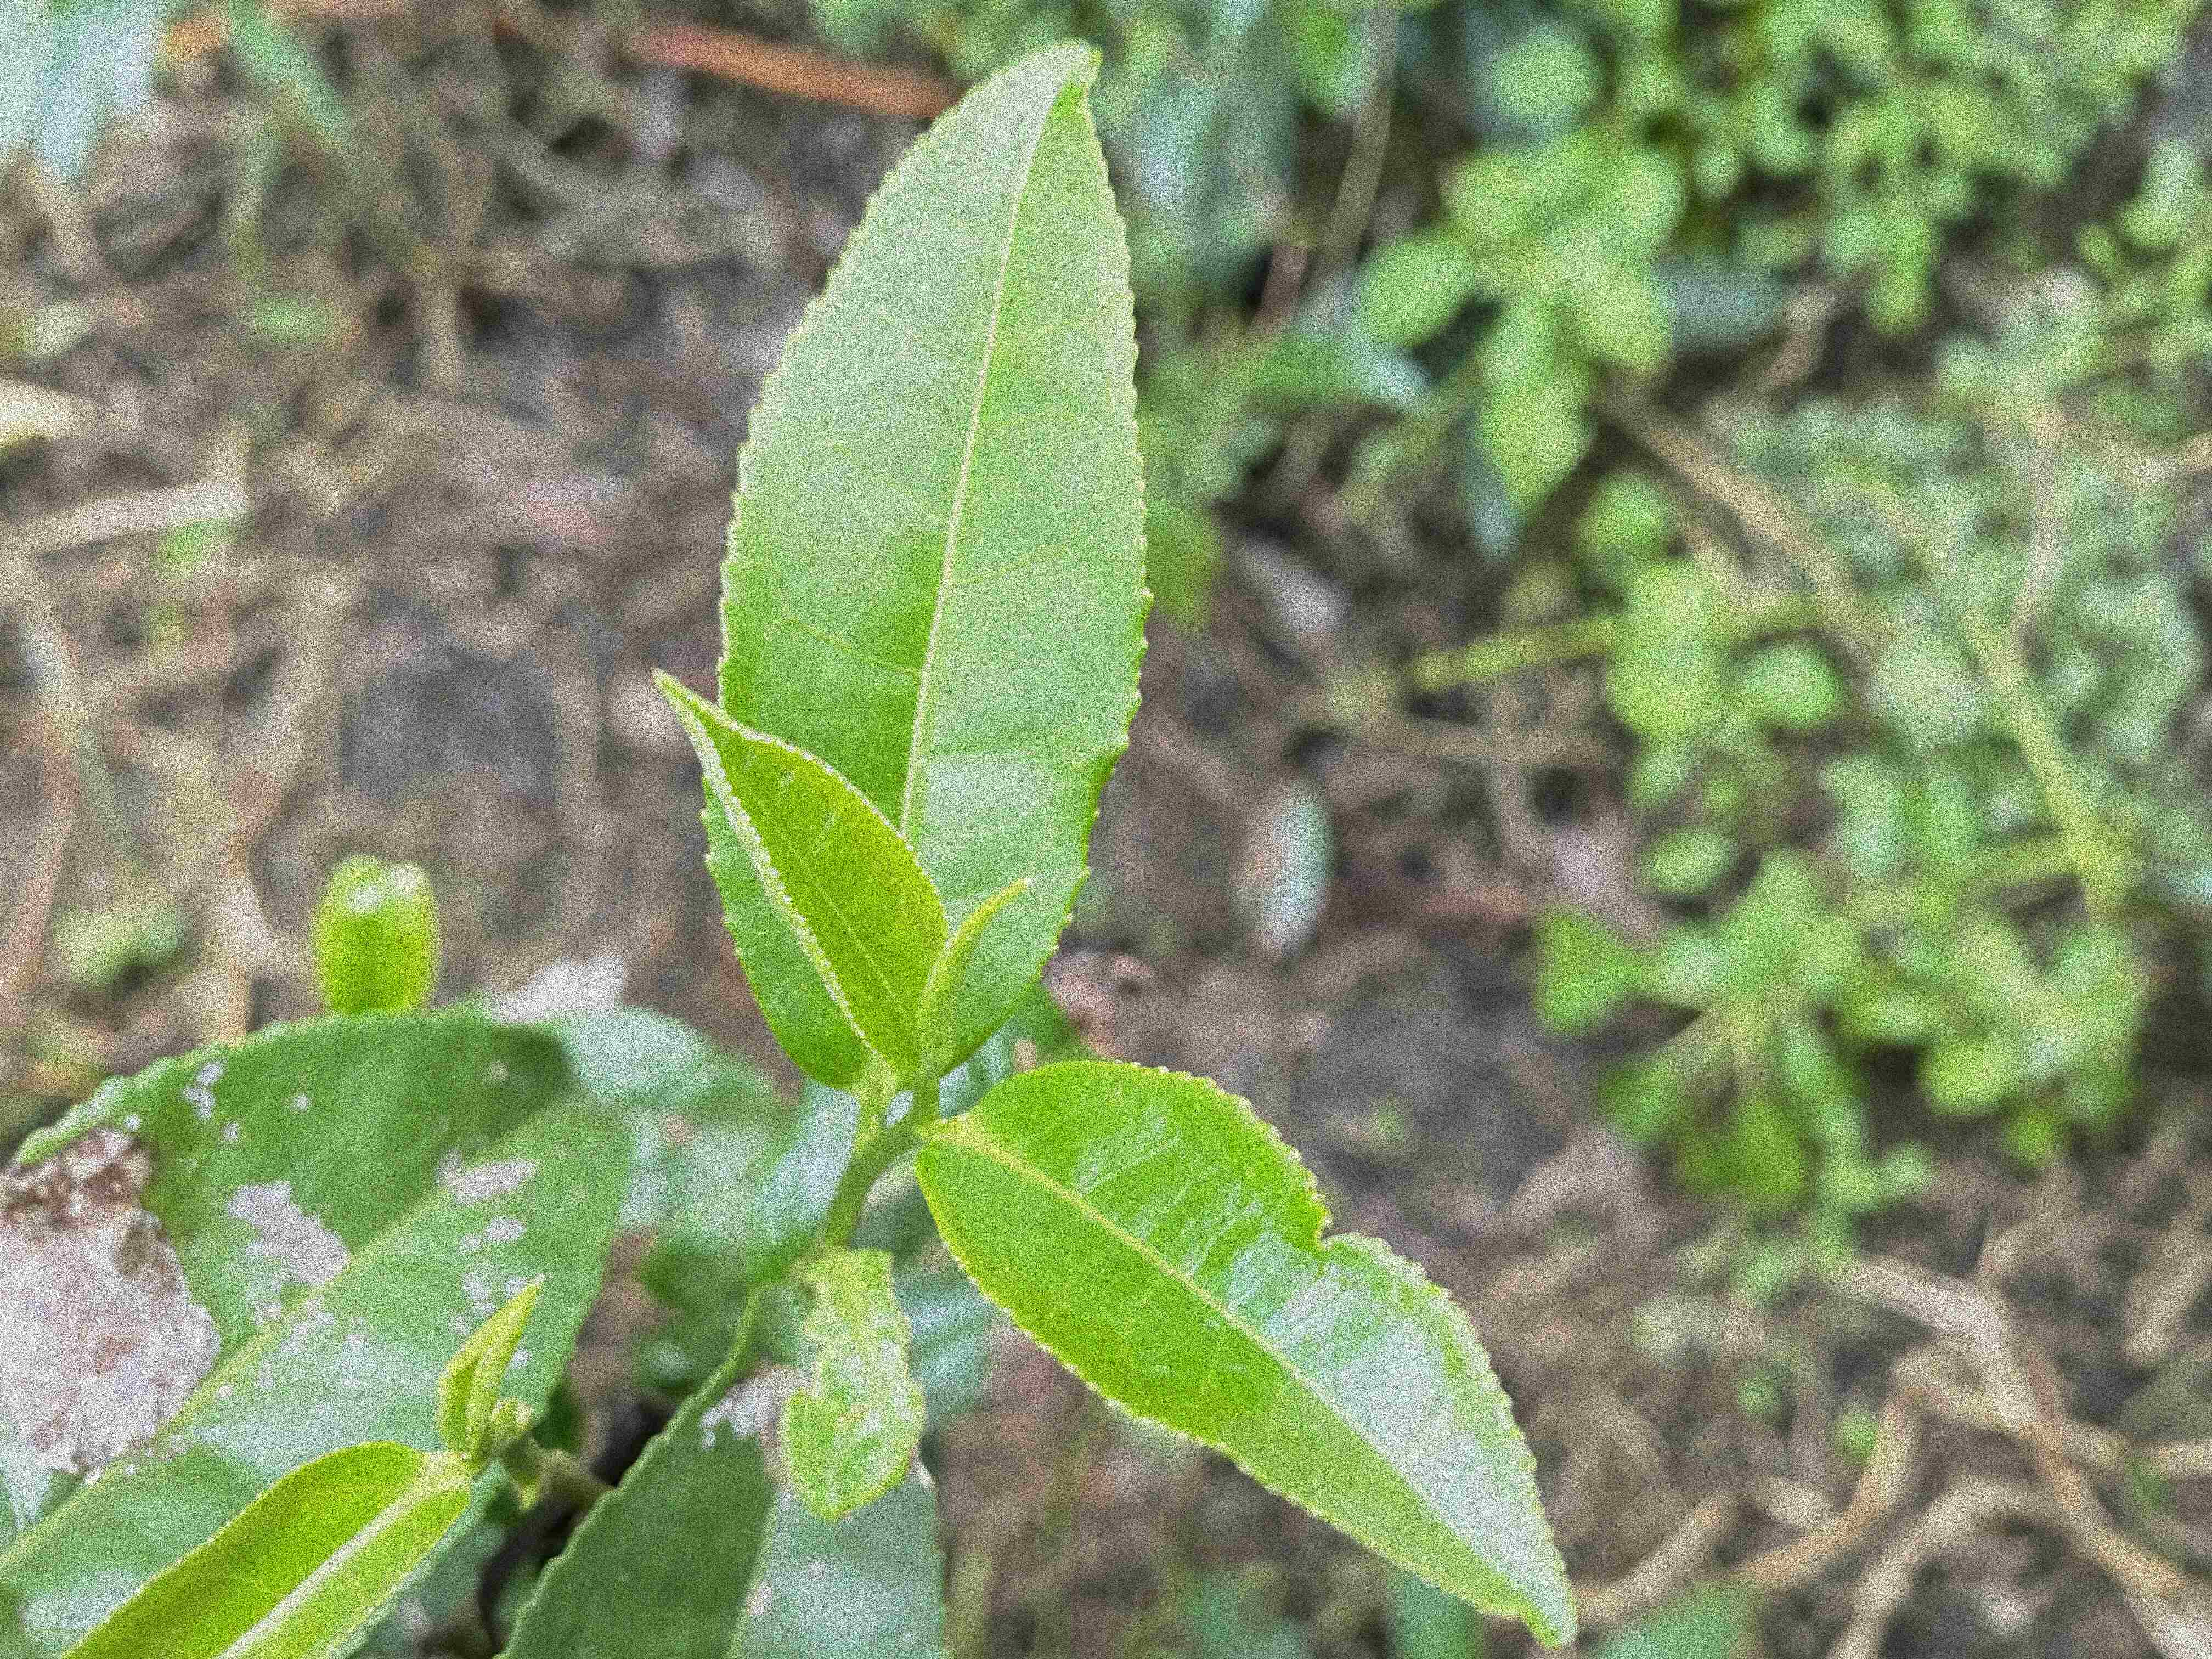chihuo_high: (782, 1244, 930, 1521)
chihuo_low: (916, 1056, 1580, 1650)
healthy: (700, 40, 1157, 1096), (651, 671, 951, 1073), (61, 1443, 474, 1656)
tanju_high: (3, 1004, 636, 1657), (498, 1277, 954, 1656)
